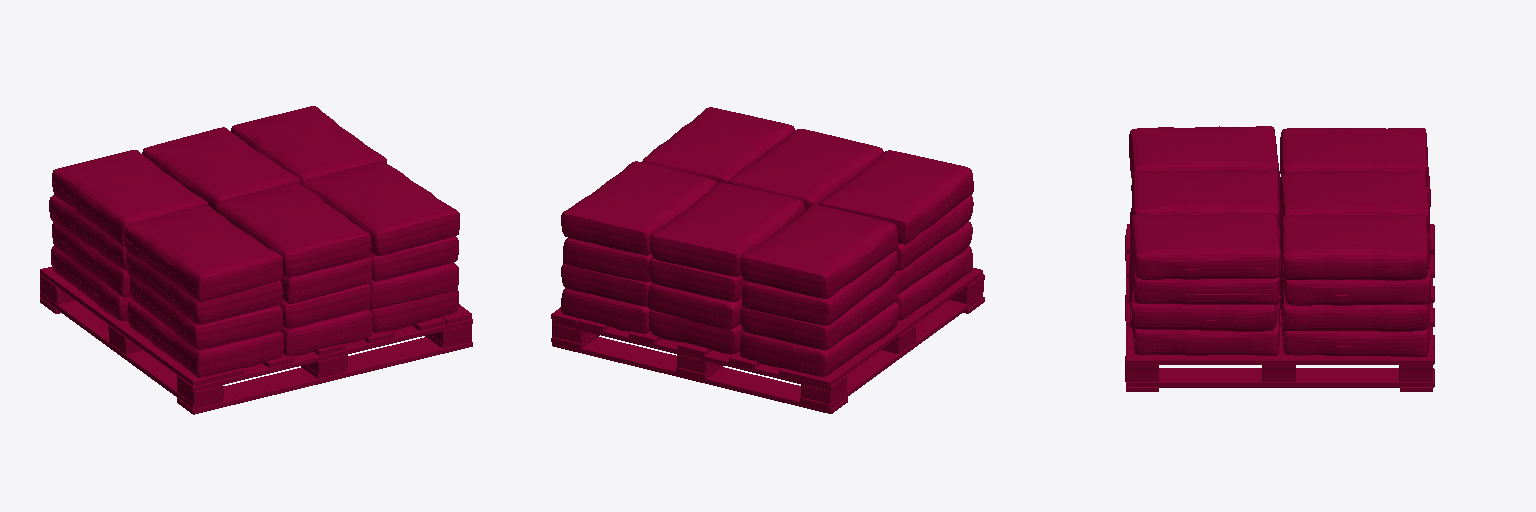
File: Cement_Bag_Pallet.obj
3 renders of one model, left to right at view 1: azimuth 30°, elevation 25°; view 2: azimuth 150°, elevation 25°; view 3: azimuth 270°, elevation 25°, orthographic.
Parts seen in each view (by area): view 1: Pallet; view 2: Pallet; view 3: Pallet.
Part boxes in pixels (x1,y1,x2,y2): Pallet: (40, 106, 472, 414); Pallet: (551, 107, 984, 413); Pallet: (1125, 126, 1434, 391).
Size of the model in its own units: 114 by 53.04 by 109.